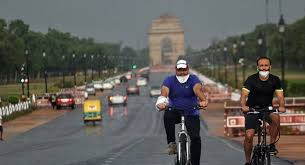mask: (257, 59, 271, 79), (176, 65, 189, 83)
